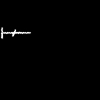double_crochet: (1, 28, 29, 37)
